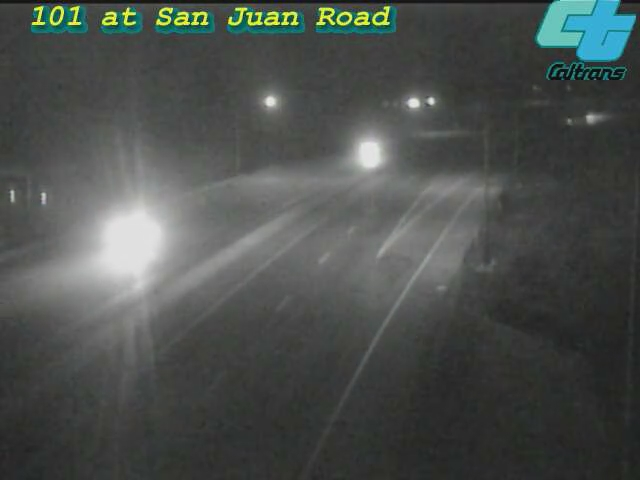vehicle: (93, 197, 173, 277), (329, 113, 409, 193), (572, 91, 622, 141)
